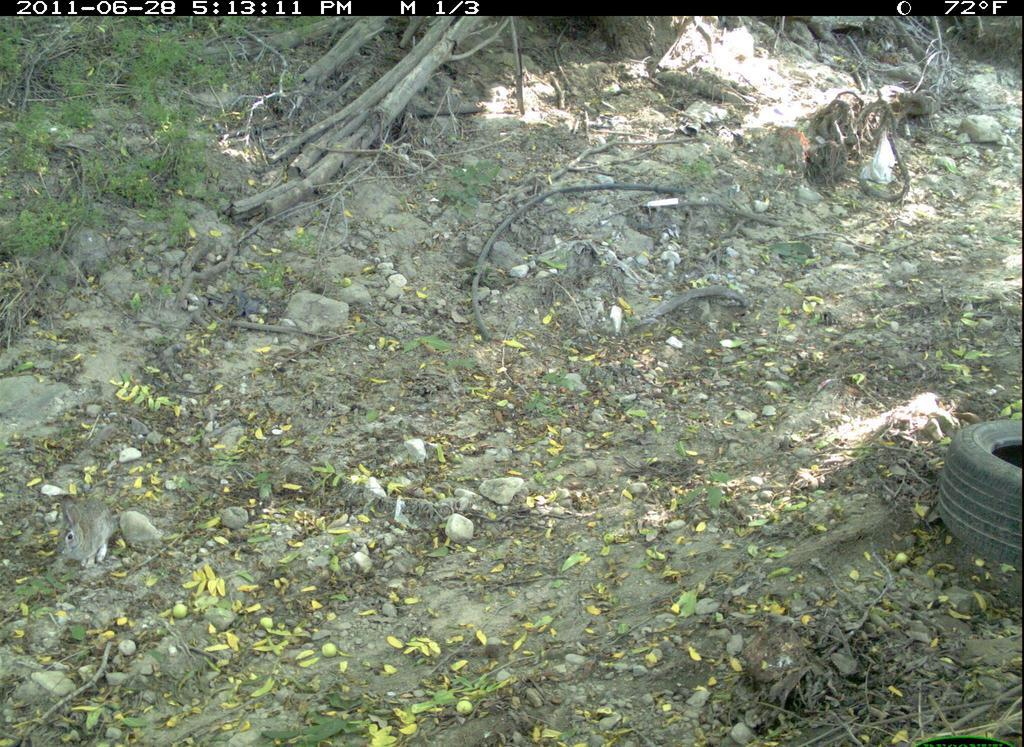rabbit: (50, 492, 125, 580)
